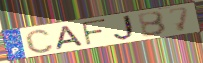7: (168, 5, 191, 33)
A: (55, 24, 86, 51)
B: (136, 10, 168, 39)
C: (24, 28, 55, 54)
F: (80, 18, 108, 47)
J: (113, 13, 139, 42)
